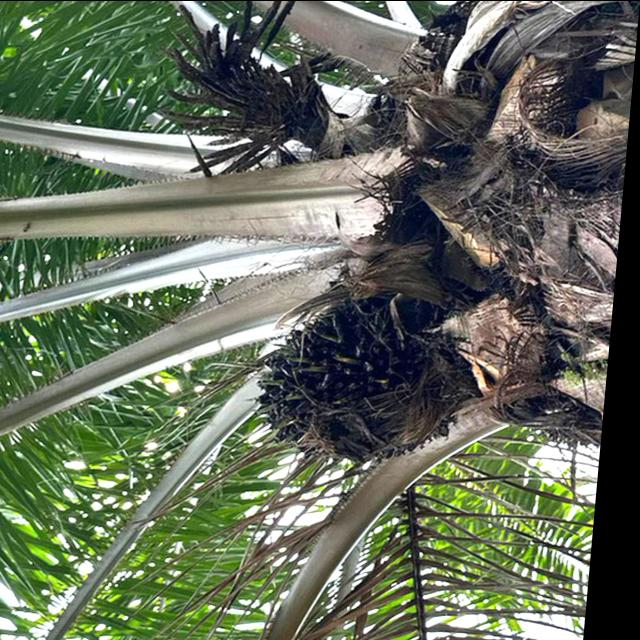unripe: (242, 282, 489, 472)
